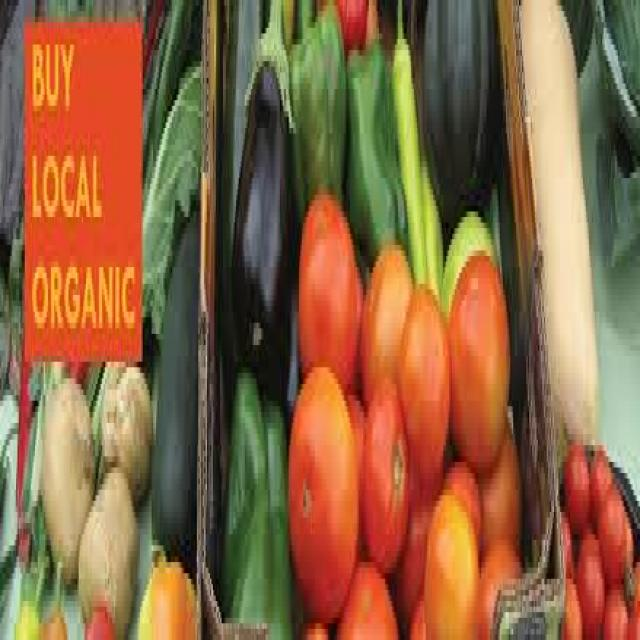organic waste: (518, 0, 599, 479), (230, 0, 291, 378), (417, 0, 504, 228), (220, 356, 290, 635), (219, 0, 265, 384), (150, 200, 196, 579), (286, 362, 357, 606), (142, 44, 198, 334), (346, 33, 408, 273), (446, 245, 507, 467), (297, 183, 358, 390), (285, 0, 345, 200), (595, 0, 638, 262), (40, 373, 94, 579), (78, 456, 138, 634), (397, 278, 446, 484), (360, 384, 411, 568), (392, 6, 426, 278), (139, 0, 195, 161), (358, 239, 412, 395), (424, 484, 477, 635), (477, 401, 522, 556), (101, 356, 150, 490), (0, 0, 22, 262), (443, 206, 494, 317), (137, 540, 194, 634), (398, 456, 433, 607), (335, 556, 395, 634), (477, 534, 519, 634), (0, 189, 19, 390), (445, 451, 484, 540), (576, 518, 606, 623), (420, 133, 440, 284), (563, 434, 589, 545), (594, 484, 622, 579), (315, 0, 370, 45), (563, 0, 595, 67), (41, 562, 70, 635), (589, 440, 611, 534), (16, 562, 41, 629), (600, 579, 626, 634), (22, 0, 147, 11), (561, 568, 582, 629), (83, 596, 115, 634), (408, 584, 429, 634), (296, 606, 325, 634), (627, 568, 638, 623), (624, 501, 630, 562)
